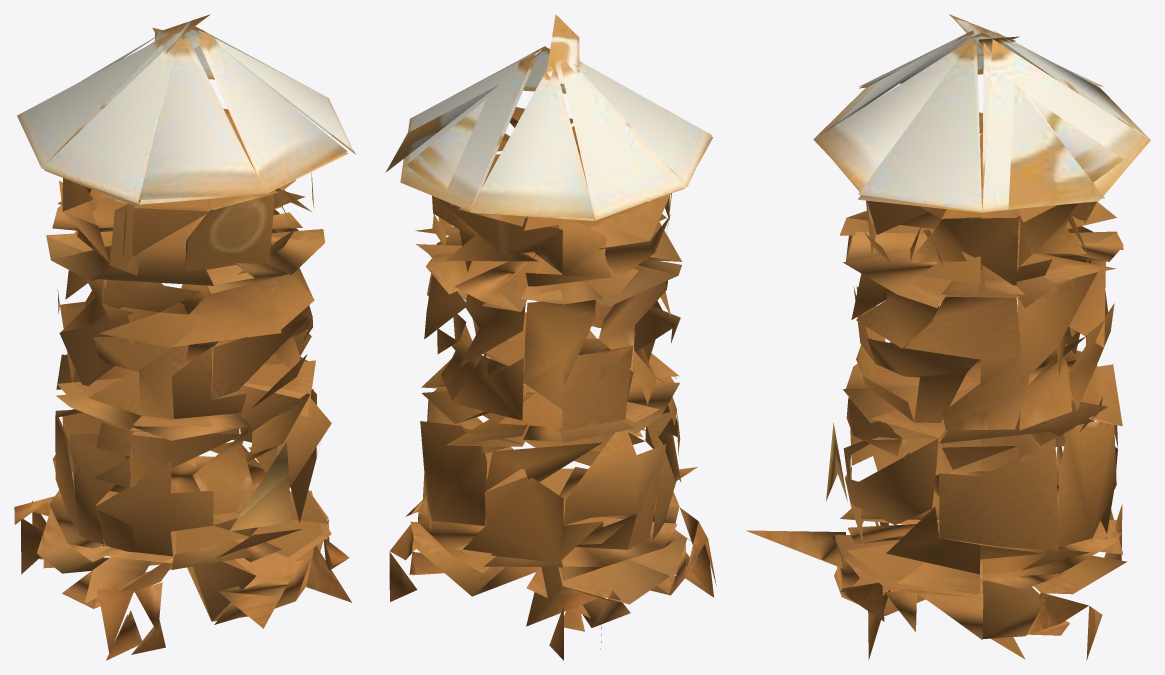
The model's file is beehive.lod1.glb.
3 views of the same model, side by side, from view 1: azimuth 30°, elevation 25°; view 2: azimuth 150°, elevation 25°; view 3: azimuth 270°, elevation 25° (orthographic). The views are drawn at different scales.
Parts seen in each view (by area): view 1: beehive.001; view 2: beehive.001; view 3: beehive.001.
Part boxes in pixels (x1=…): beehive.001: x1=14, y1=14, x2=355, y2=660; beehive.001: x1=385, y1=14, x2=716, y2=660; beehive.001: x1=746, y1=14, x2=1150, y2=660.
Size of the model in its own units: 0.4665 by 0.9193 by 0.5601.
1 material, 1 textured.
